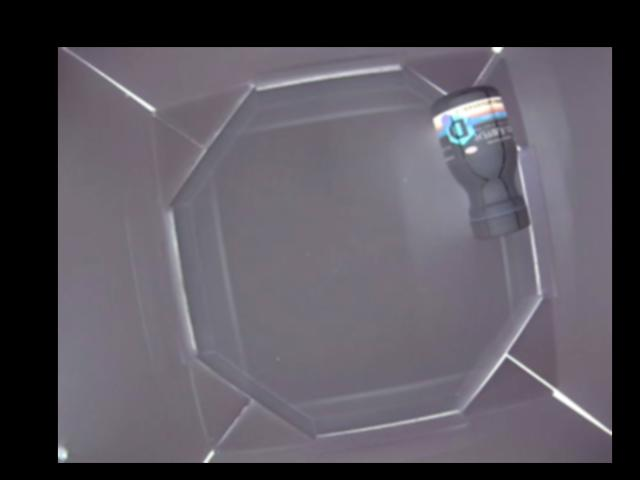Bottle: (431, 86, 531, 234)
